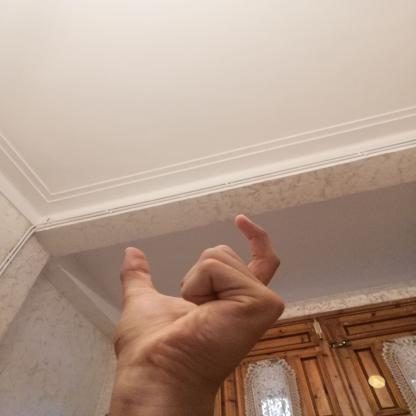NOON: (96, 205, 302, 401)
